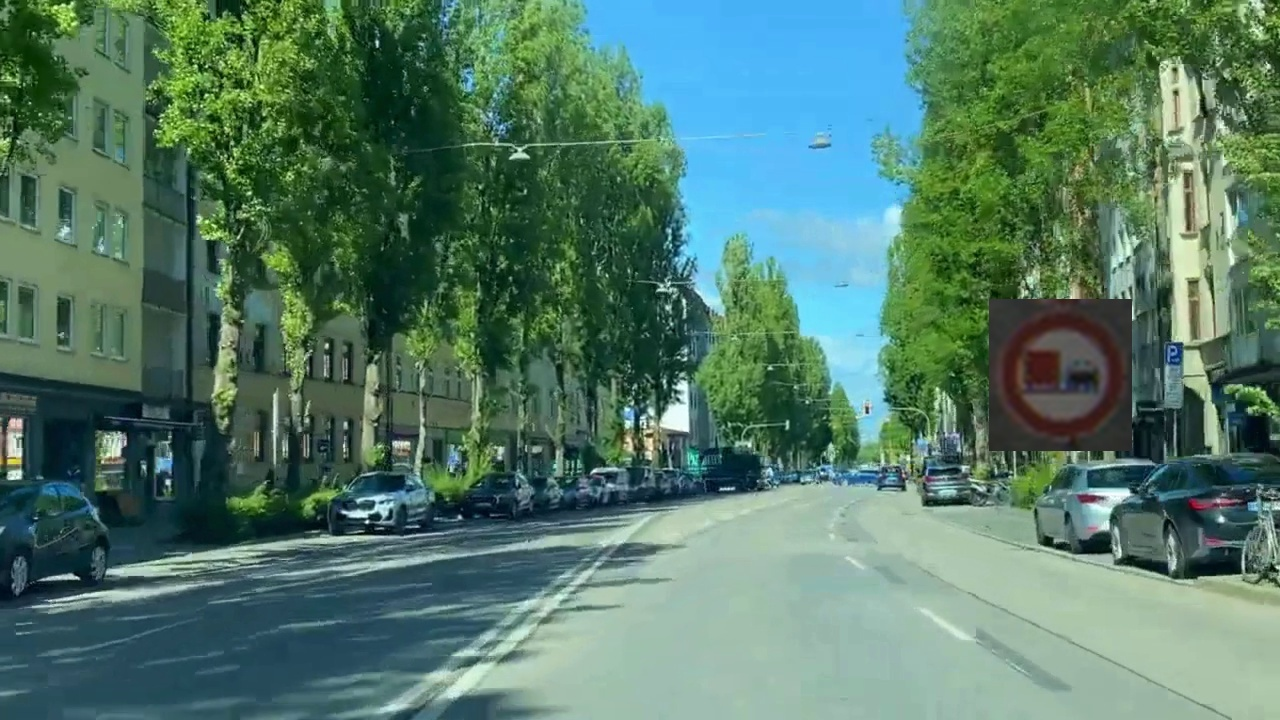No pass >3.5t: (989, 299, 1132, 451)
